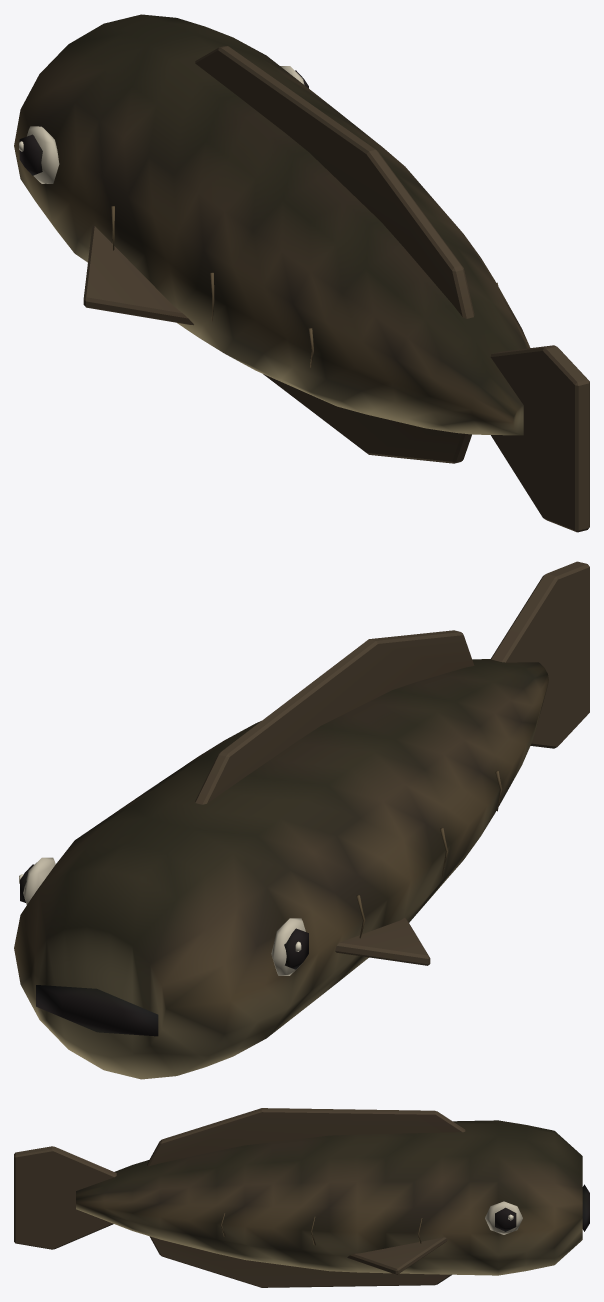
The model's file is fish_snakehead.glb.
3 views of the same model, one above another, from view 1: azimuth 30°, elevation 25°; view 2: azimuth 150°, elevation 25°; view 3: azimuth 270°, elevation 25° (orthographic). The views are drawn at different scales.
Bounding box in the file's own units: 0.3242 × 0.2725 × 0.8.
